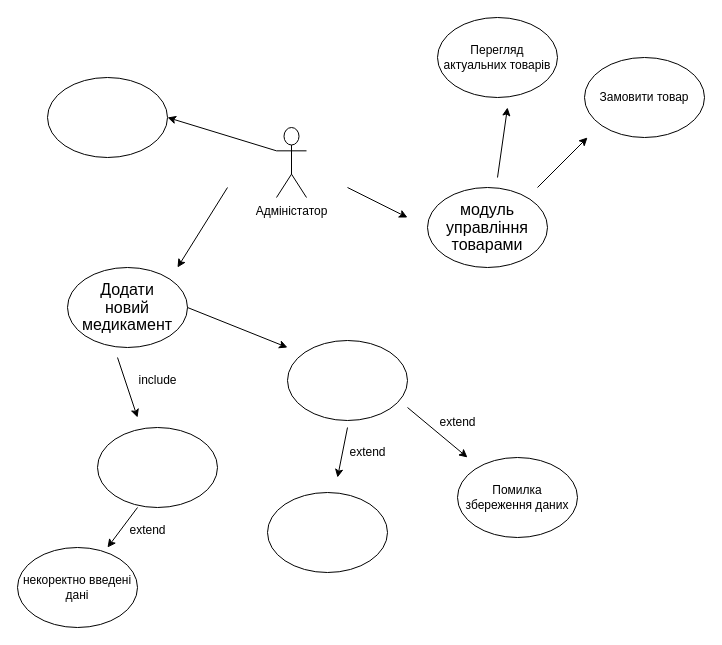
The diagram is 722 pixels wide and 645 high, and some of its shapes have lost their labels. Each missing label, with the box of its shape:
Введення даних: (96, 426, 218, 508)
Дані успішно збережені: (266, 492, 388, 572)
Збереження даних: (286, 340, 408, 420)
Редагування наявних товарів: (46, 76, 168, 158)
